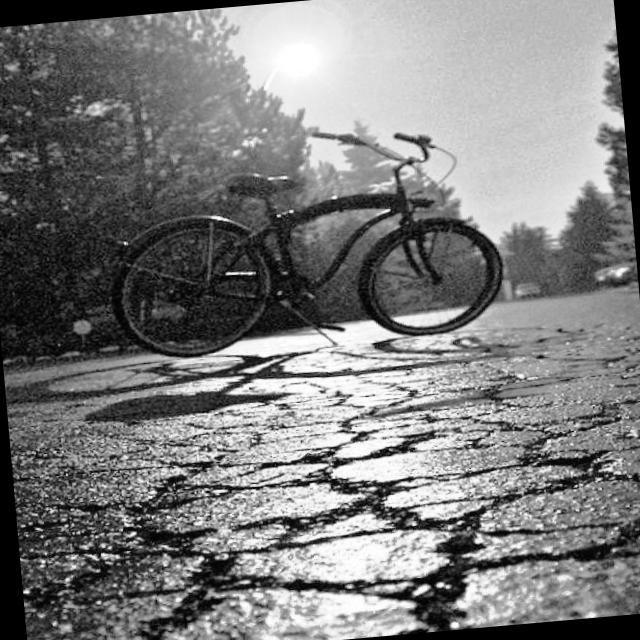Bicycle: (80, 105, 485, 387)
